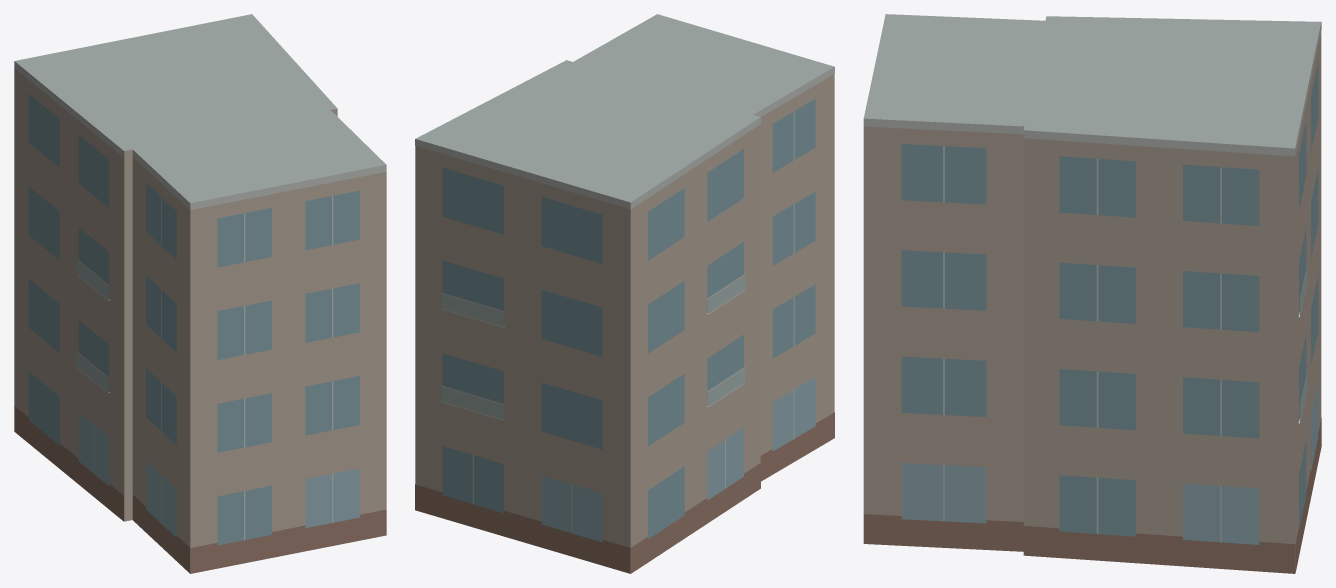
The model's file is survey-upis-32692212.glb.
The picture shows the model from 3 angles, left to right: view 1: azimuth 30°, elevation 25°; view 2: azimuth 150°, elevation 25°; view 3: azimuth 270°, elevation 25°; orthographic projection. The views are drawn at different scales.
Visible parts, largest first — view 1: survey-upis-32692212.tmp; view 2: survey-upis-32692212.tmp; view 3: survey-upis-32692212.tmp.
Boxes of the visible parts, box(x1,y1,x2,y2) form: survey-upis-32692212.tmp: box(14, 14, 386, 573); survey-upis-32692212.tmp: box(415, 14, 834, 573); survey-upis-32692212.tmp: box(863, 14, 1321, 573).
Bounding box in the file's own units: 8.86 × 13.05 × 12.74.
